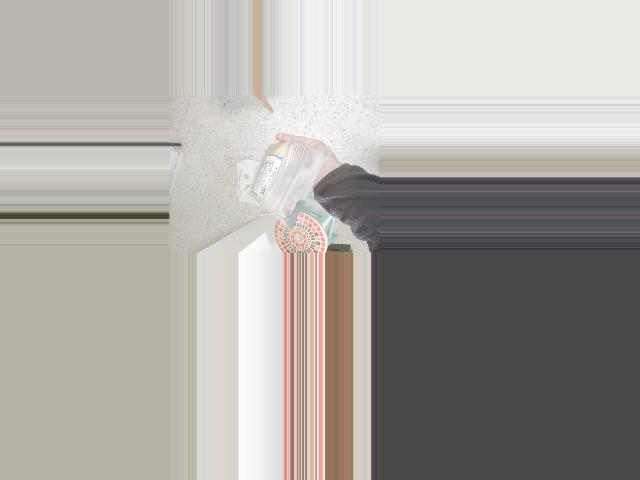cheese: (227, 159, 318, 198)
